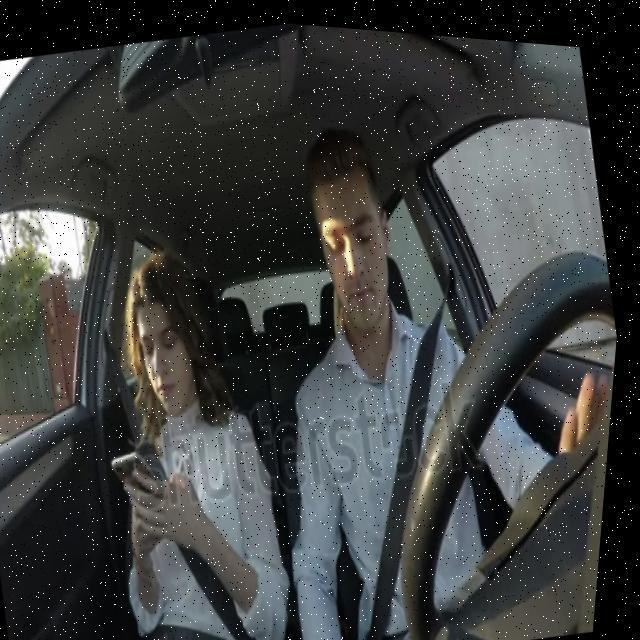PhoneCall: (110, 437, 172, 508)
